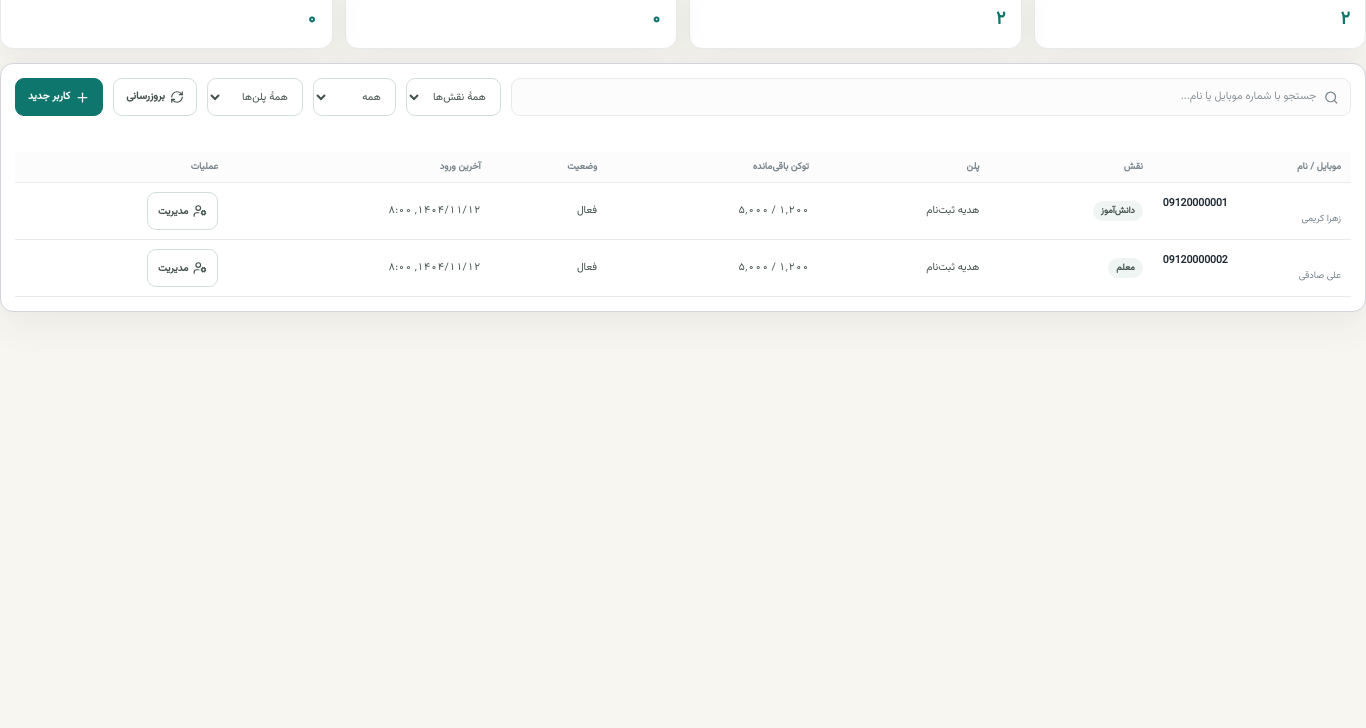
Scenario: AdminUsersPanel › adjusts quotas through PUT /credits and reports success inline
The image size is (1366, 728).
Expected: the text "09120000001" is shown, top-left (1163, 195), bottom-right (1228, 212)
Click the button "مدیریت" in the row of "09120000001" at (183, 211), box top-left (147, 192), bottom-right (218, 230)
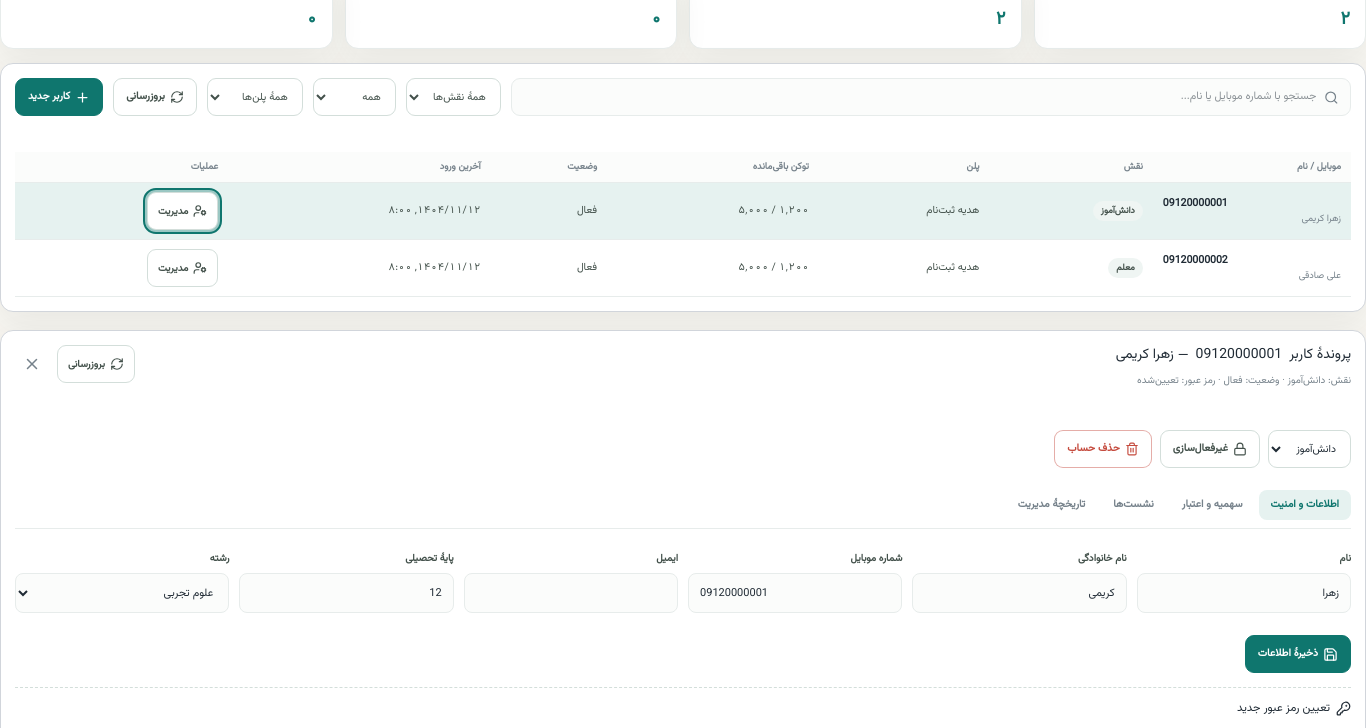
Click the tab "سهمیه و اعتبار" at (1212, 505), box top-left (1170, 490), bottom-right (1255, 520)
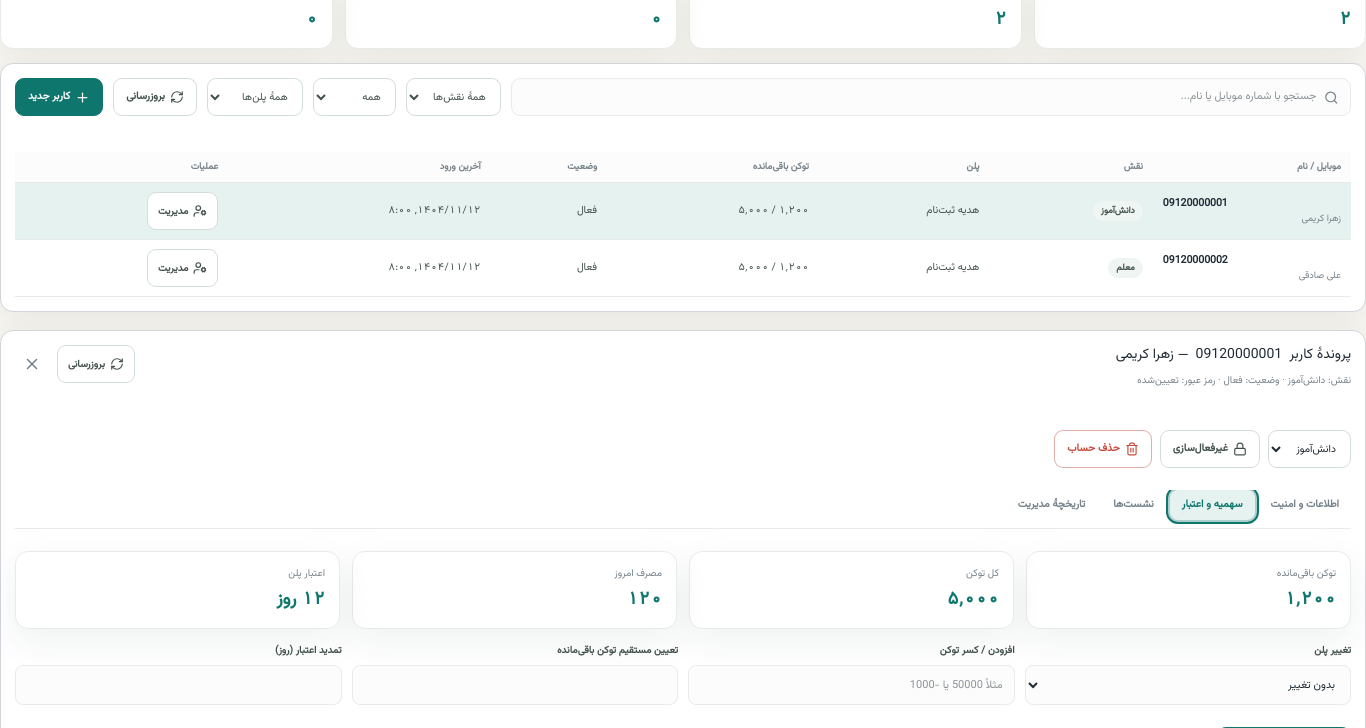
Type "5000" into the number field labelled "افزودن / کسر توکن" at (851, 685), box top-left (688, 665), bottom-right (1014, 705)
(page scrolled)
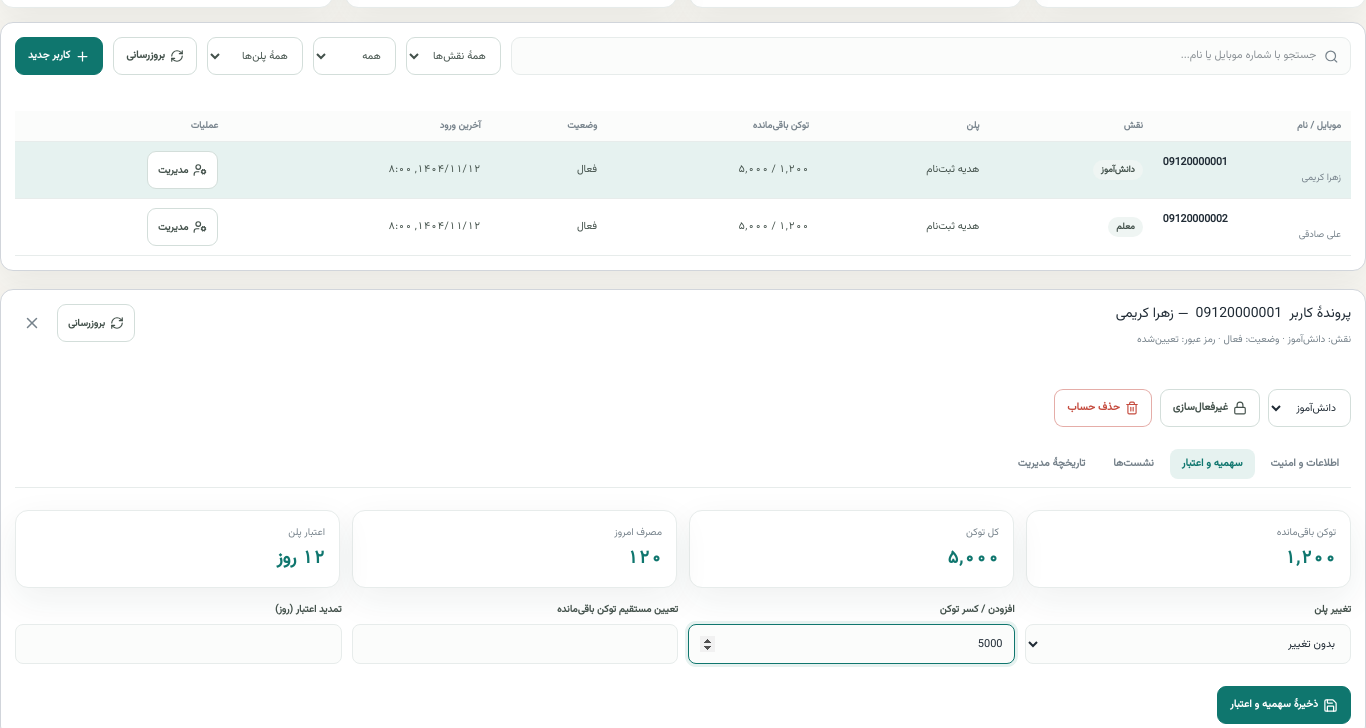
Click the button "ذخیرهٔ سهمیه و اعتبار" at (1284, 705), box top-left (1217, 686), bottom-right (1351, 724)
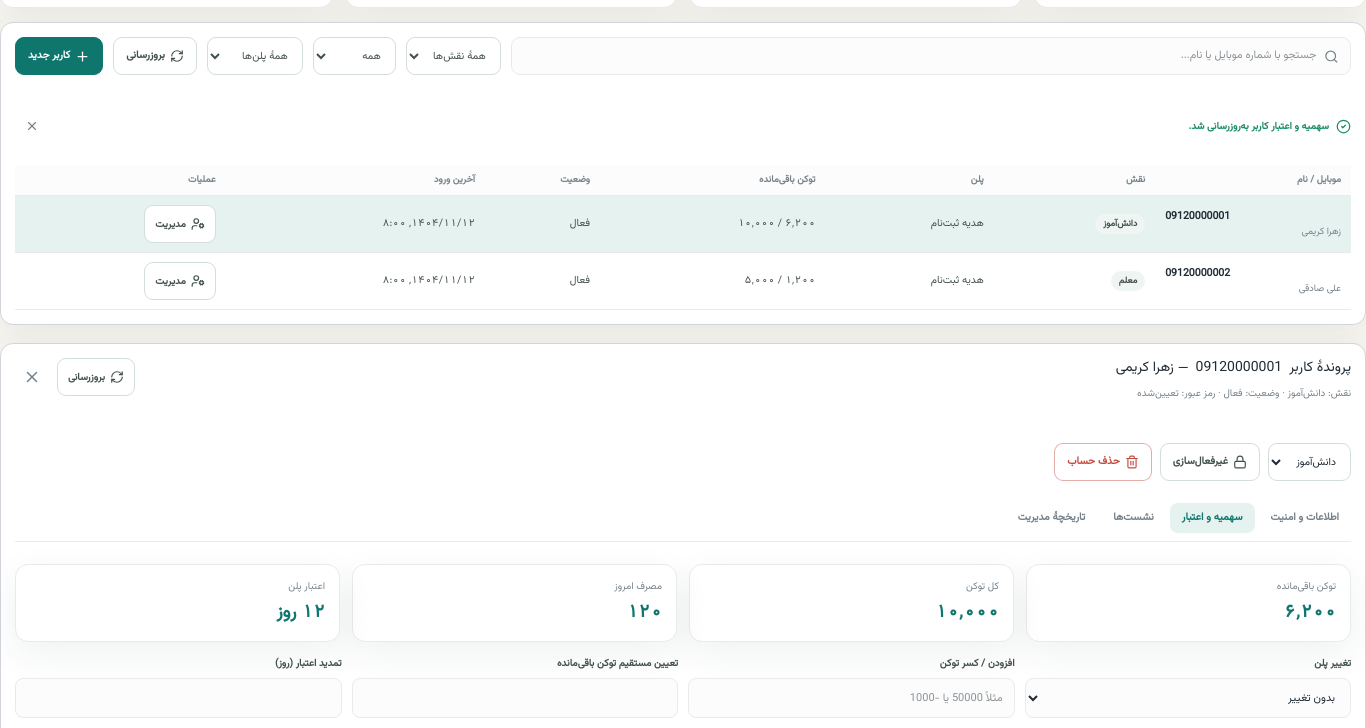
Result: the text "سهمیه و اعتبار کاربر به‌روزرسانی شد." is shown at top-left (15, 109), bottom-right (1351, 143)
